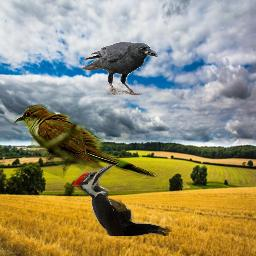Crow: (81, 42, 158, 95)
Cuckoo: (14, 104, 158, 179)
Woodpecker: (66, 164, 172, 236)
